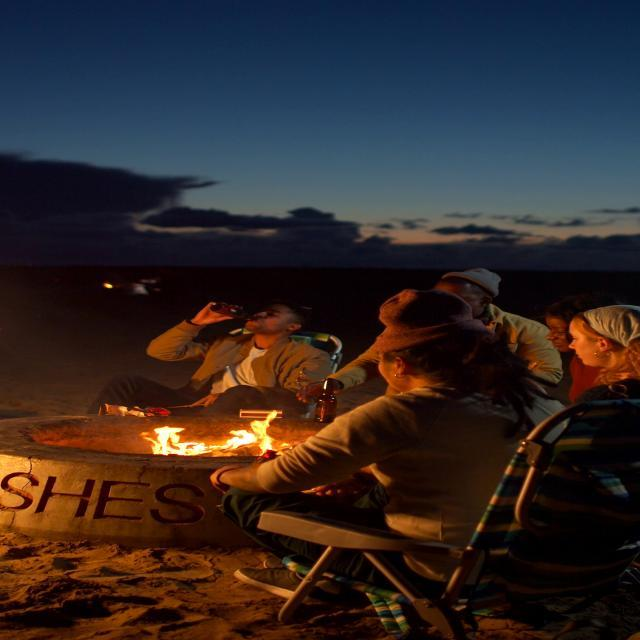Fire: (137, 411, 286, 456)
